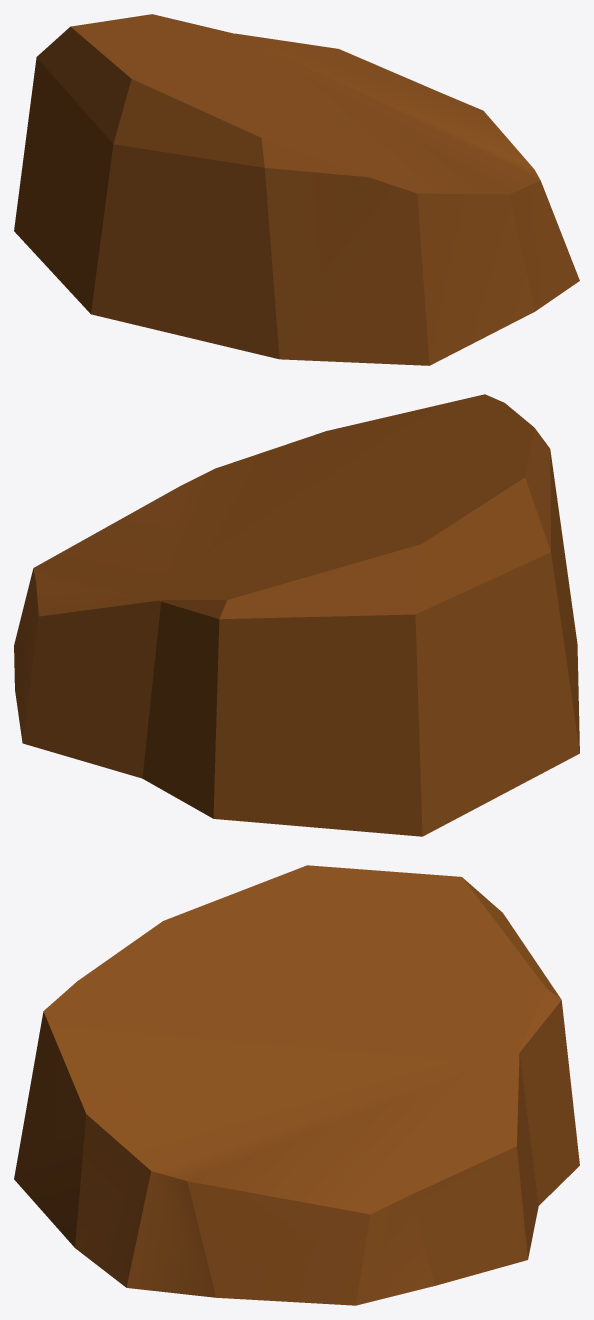
File: HardRock_40.fbx
The picture shows the model from 3 angles, top to bottom: view 1: azimuth 30°, elevation 25°; view 2: azimuth 150°, elevation 25°; view 3: azimuth 270°, elevation 25°; orthographic projection. The views are drawn at different scales.
Parts seen in each view (by area): view 1: HardRock_40; view 2: HardRock_40; view 3: HardRock_40.
Boxes of the visible parts, box(x1,y1,x2,y2) form: HardRock_40: box(14, 14, 579, 365); HardRock_40: box(14, 394, 579, 836); HardRock_40: box(14, 865, 579, 1305).
Size of the model in its own units: 141 by 68.37 by 148.
